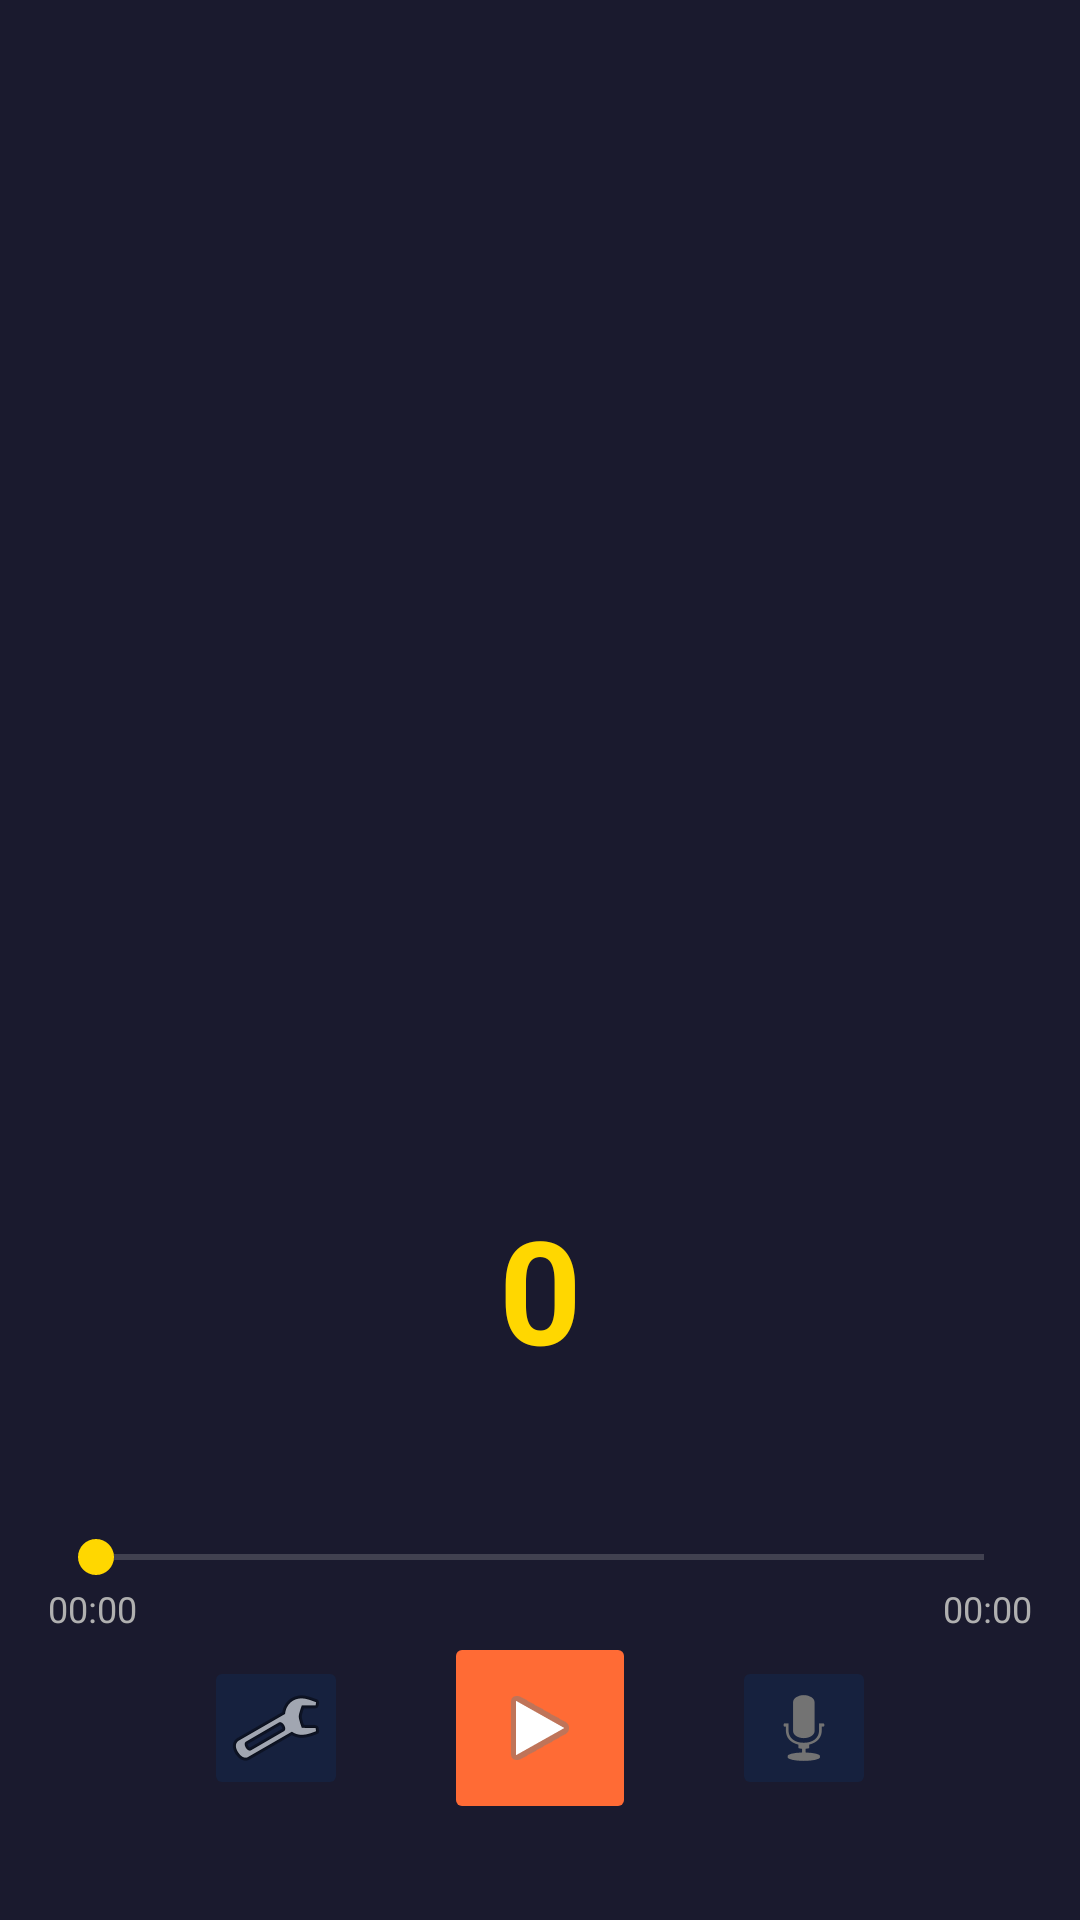

Icons on this 1080 x 1920 Android screen, each with the point to tap as point (x, y):
录音: point (804, 1728)
播放: point (540, 1728)
